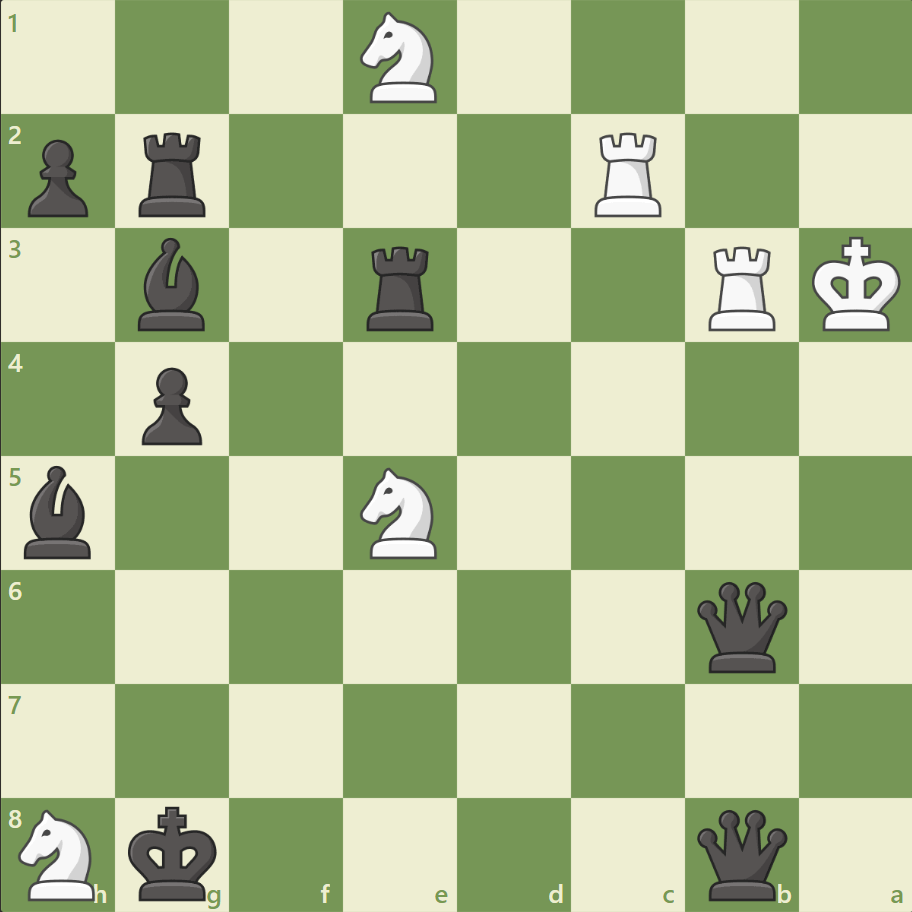K: (806, 231, 906, 339)
N: (351, 461, 449, 564), (351, 7, 449, 110), (11, 802, 108, 904)
R: (700, 239, 783, 336), (587, 125, 670, 222)
b: (17, 460, 101, 563), (131, 233, 215, 336)
k: (124, 798, 224, 906)
p: (133, 359, 208, 450), (20, 132, 95, 223)
q: (691, 576, 790, 676), (691, 804, 790, 903)
r: (360, 239, 442, 336), (133, 125, 215, 222)
